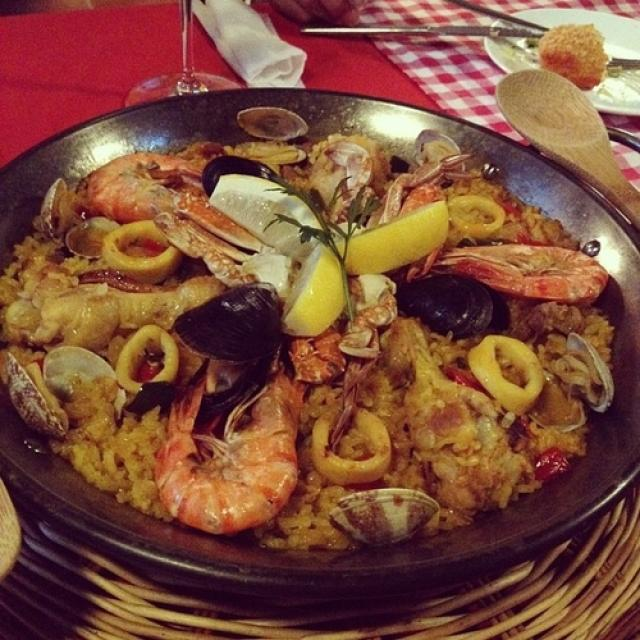鸡蛋料理: (8, 0, 640, 517)
